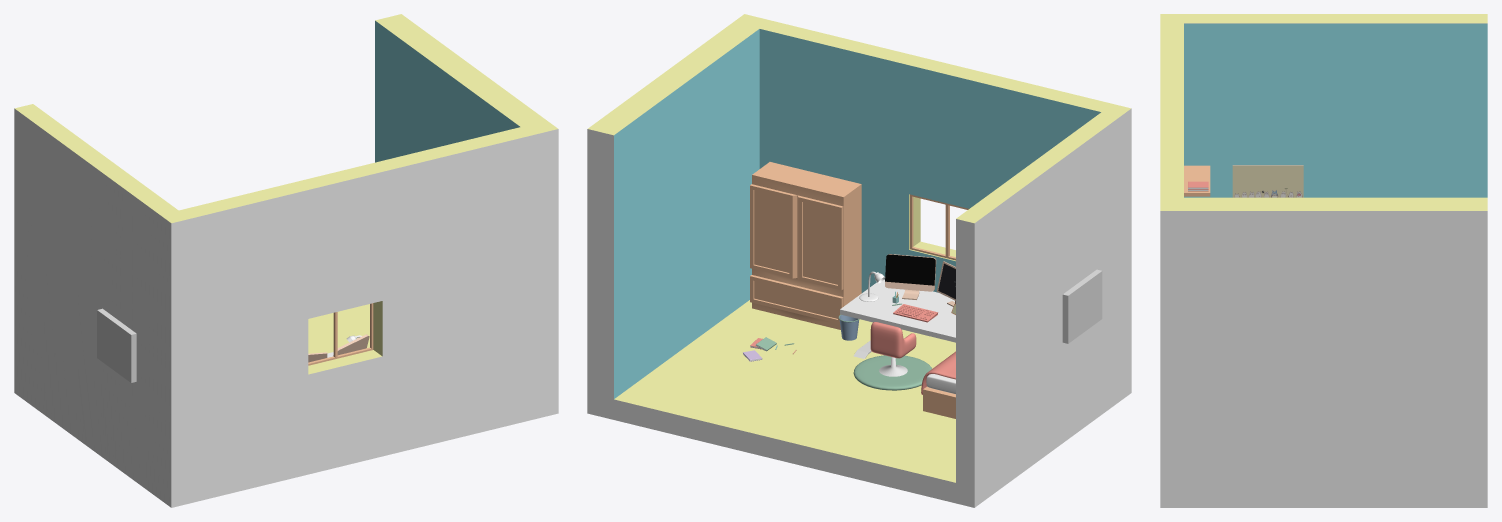
File: Study_Room_38.glb
3 renders of one model, left to right at view 1: azimuth 30°, elevation 25°; view 2: azimuth 150°, elevation 25°; view 3: azimuth 270°, elevation 25°, orthographic. The views are drawn at different scales.
Visible parts, largest first — view 1: Room, Cube, Window Frame; view 2: Room, Closet, Table Top, Cube, Rug, Desktop Screen, Chair, Bedframe, Window Frame; view 3: Room, Cube.001, Shelf.001.
Part boxes in pixels (x1,y1,x2,y2): Room: (14, 14, 558, 507); Cube: (97, 308, 136, 382); Window Frame: (308, 303, 373, 365); Room: (587, 14, 1131, 507); Closet: (750, 162, 861, 329); Table Top: (840, 279, 955, 342); Cube: (1062, 269, 1102, 343); Rug: (853, 355, 931, 390); Desktop Screen: (885, 254, 935, 285); Chair: (870, 322, 916, 358); Bedframe: (923, 386, 955, 418); Window Frame: (910, 194, 968, 260); Room: (1160, 14, 1487, 507); Cube.001: (1232, 165, 1303, 197); Shelf.001: (1184, 165, 1210, 196).
Size of the model in its own units: 28.12 by 19.48 by 19.48.
Materials: 29 (4 with a texture image).
